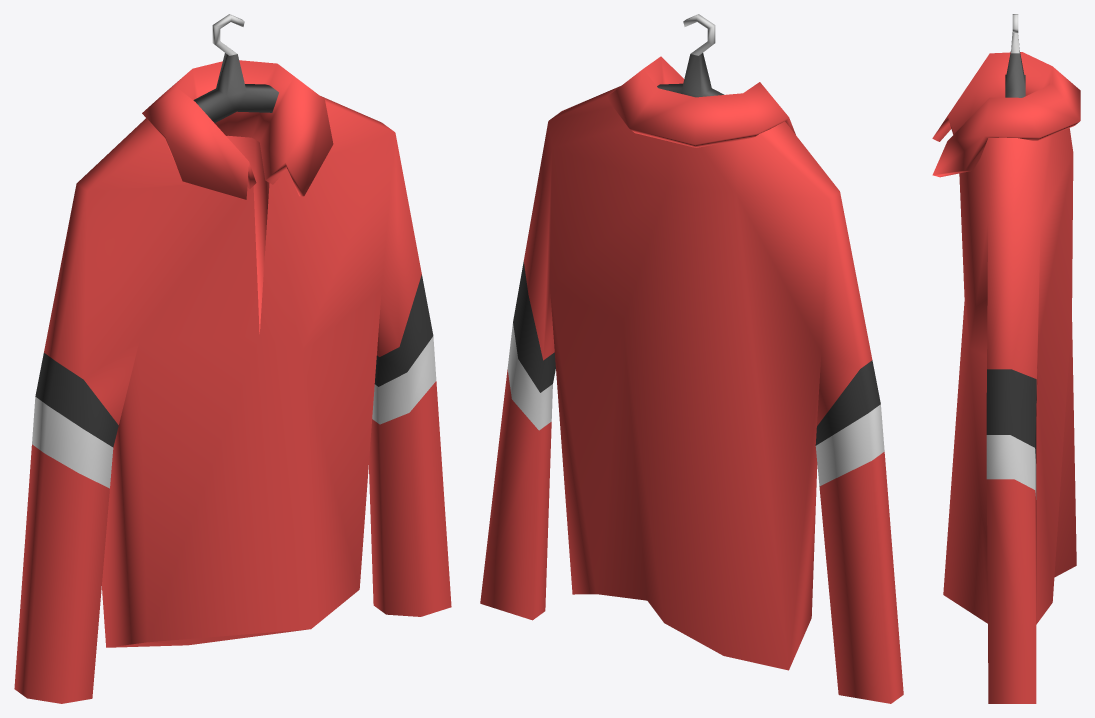
File: clothes_001.glb
The picture shows the model from 3 angles, left to right: view 1: azimuth 30°, elevation 25°; view 2: azimuth 150°, elevation 25°; view 3: azimuth 270°, elevation 25°; orthographic projection. The views are drawn at different scales.
Visible parts, largest first — view 1: clothes_001; view 2: clothes_001; view 3: clothes_001.
Part boxes in pixels (box(x1,y1,x2,y2)): clothes_001: box(14, 14, 451, 703); clothes_001: box(480, 14, 903, 703); clothes_001: box(932, 14, 1080, 703).
Bounding box in the file's own units: 0.6414 × 0.9466 × 0.2131.
Materials: 1 (1 with a texture image).
